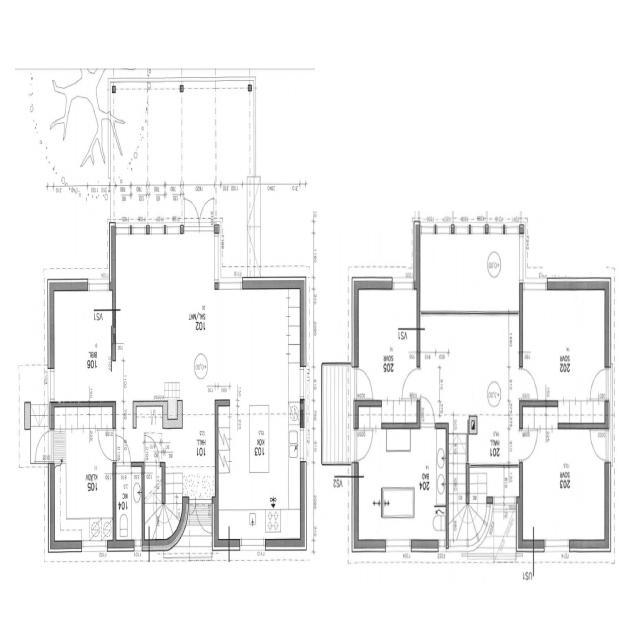door: (182, 192, 216, 232), (520, 254, 550, 292), (587, 364, 613, 402), (588, 424, 611, 462), (518, 363, 541, 401), (518, 424, 540, 462), (352, 364, 375, 400), (399, 361, 421, 398), (353, 425, 375, 462), (96, 428, 117, 464), (194, 497, 214, 534), (418, 391, 437, 429), (116, 431, 133, 468), (142, 434, 159, 468), (34, 430, 51, 463)
window: (540, 533, 573, 559), (382, 535, 414, 558), (235, 536, 268, 557), (78, 536, 108, 559), (84, 272, 112, 294), (216, 272, 244, 293), (389, 272, 416, 292), (44, 364, 58, 402), (531, 536, 547, 559), (299, 362, 307, 404), (299, 425, 307, 462), (132, 538, 146, 557), (437, 539, 449, 559)
zone: (116, 264, 306, 404), (214, 402, 304, 542), (354, 422, 449, 546), (519, 286, 608, 414), (417, 313, 521, 417), (521, 422, 608, 545), (51, 402, 115, 546), (418, 231, 521, 312), (356, 284, 418, 413), (50, 283, 115, 404), (215, 84, 255, 184), (114, 462, 144, 549), (142, 462, 168, 545)
